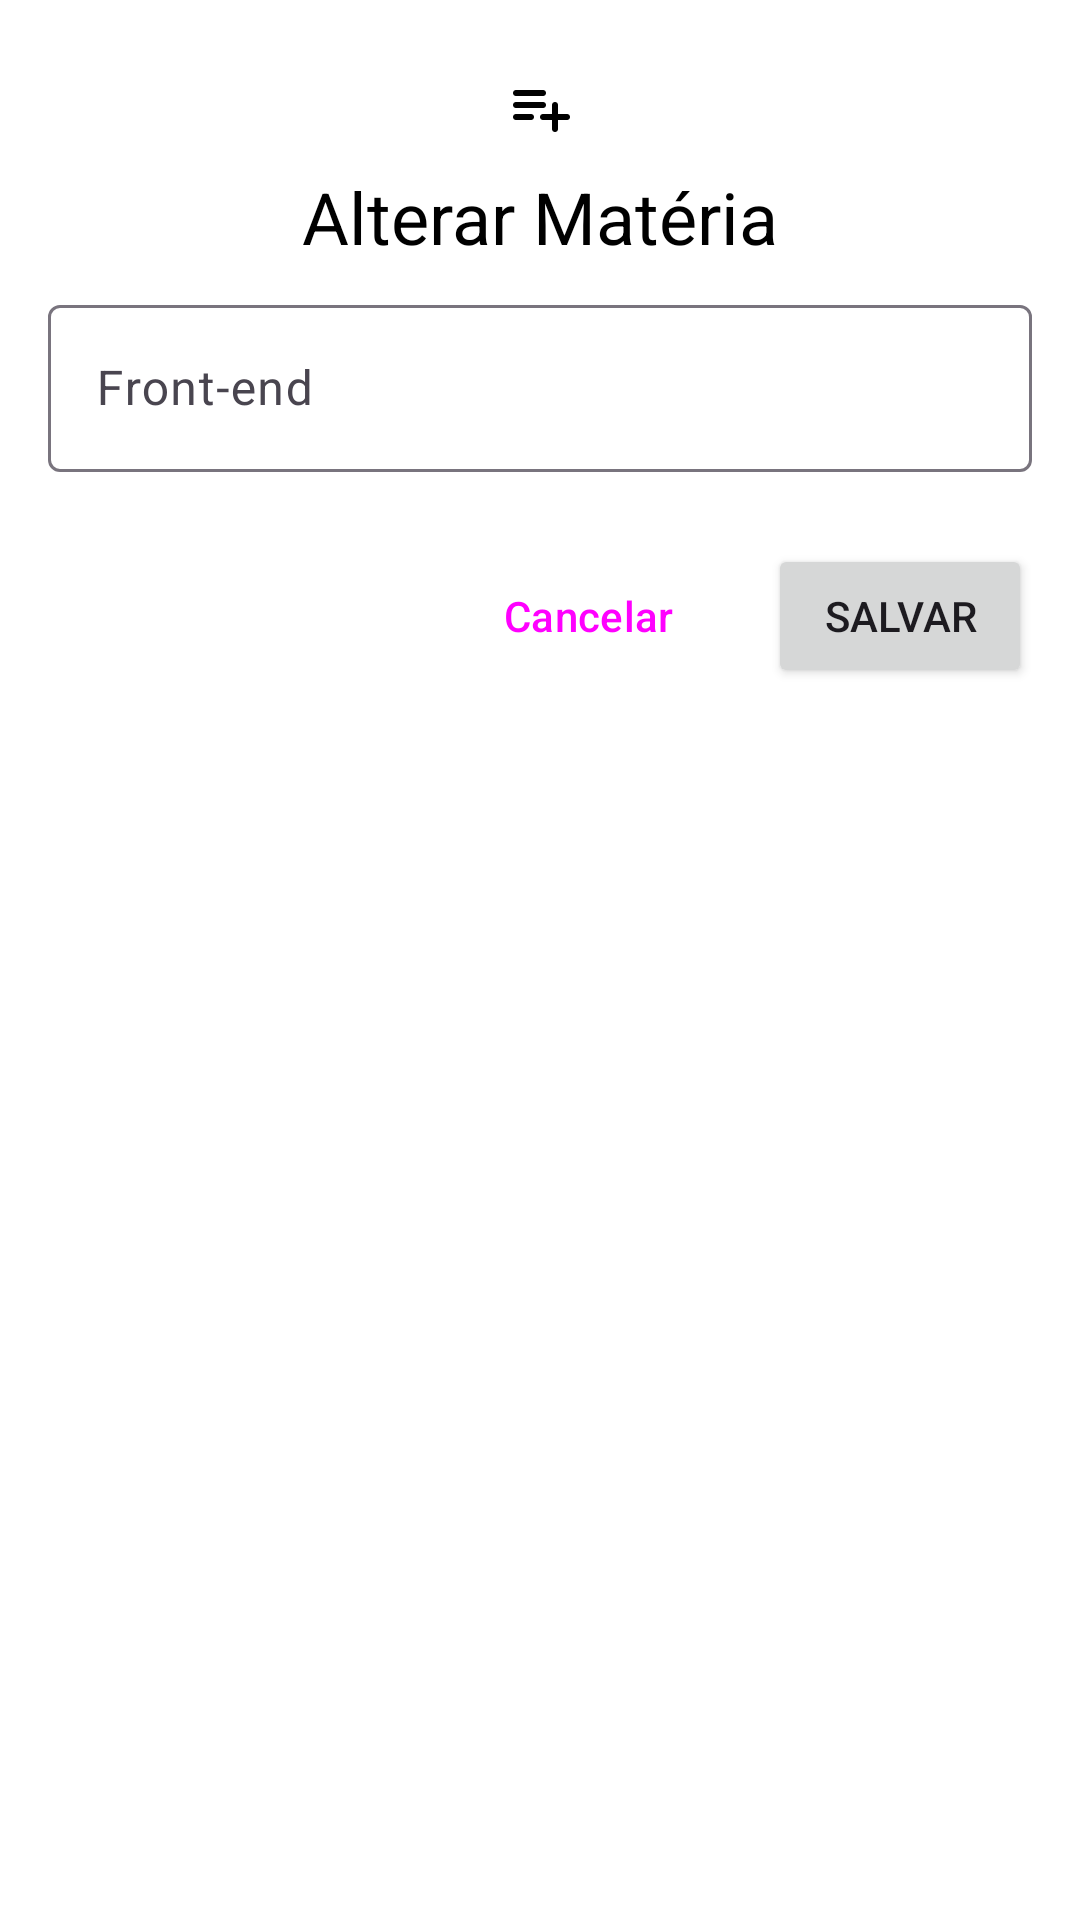

Point at icon controls on the screen. Image size 1080x1920, points as (x=x, y=y).
Playlist add icon: (x=541, y=111)
